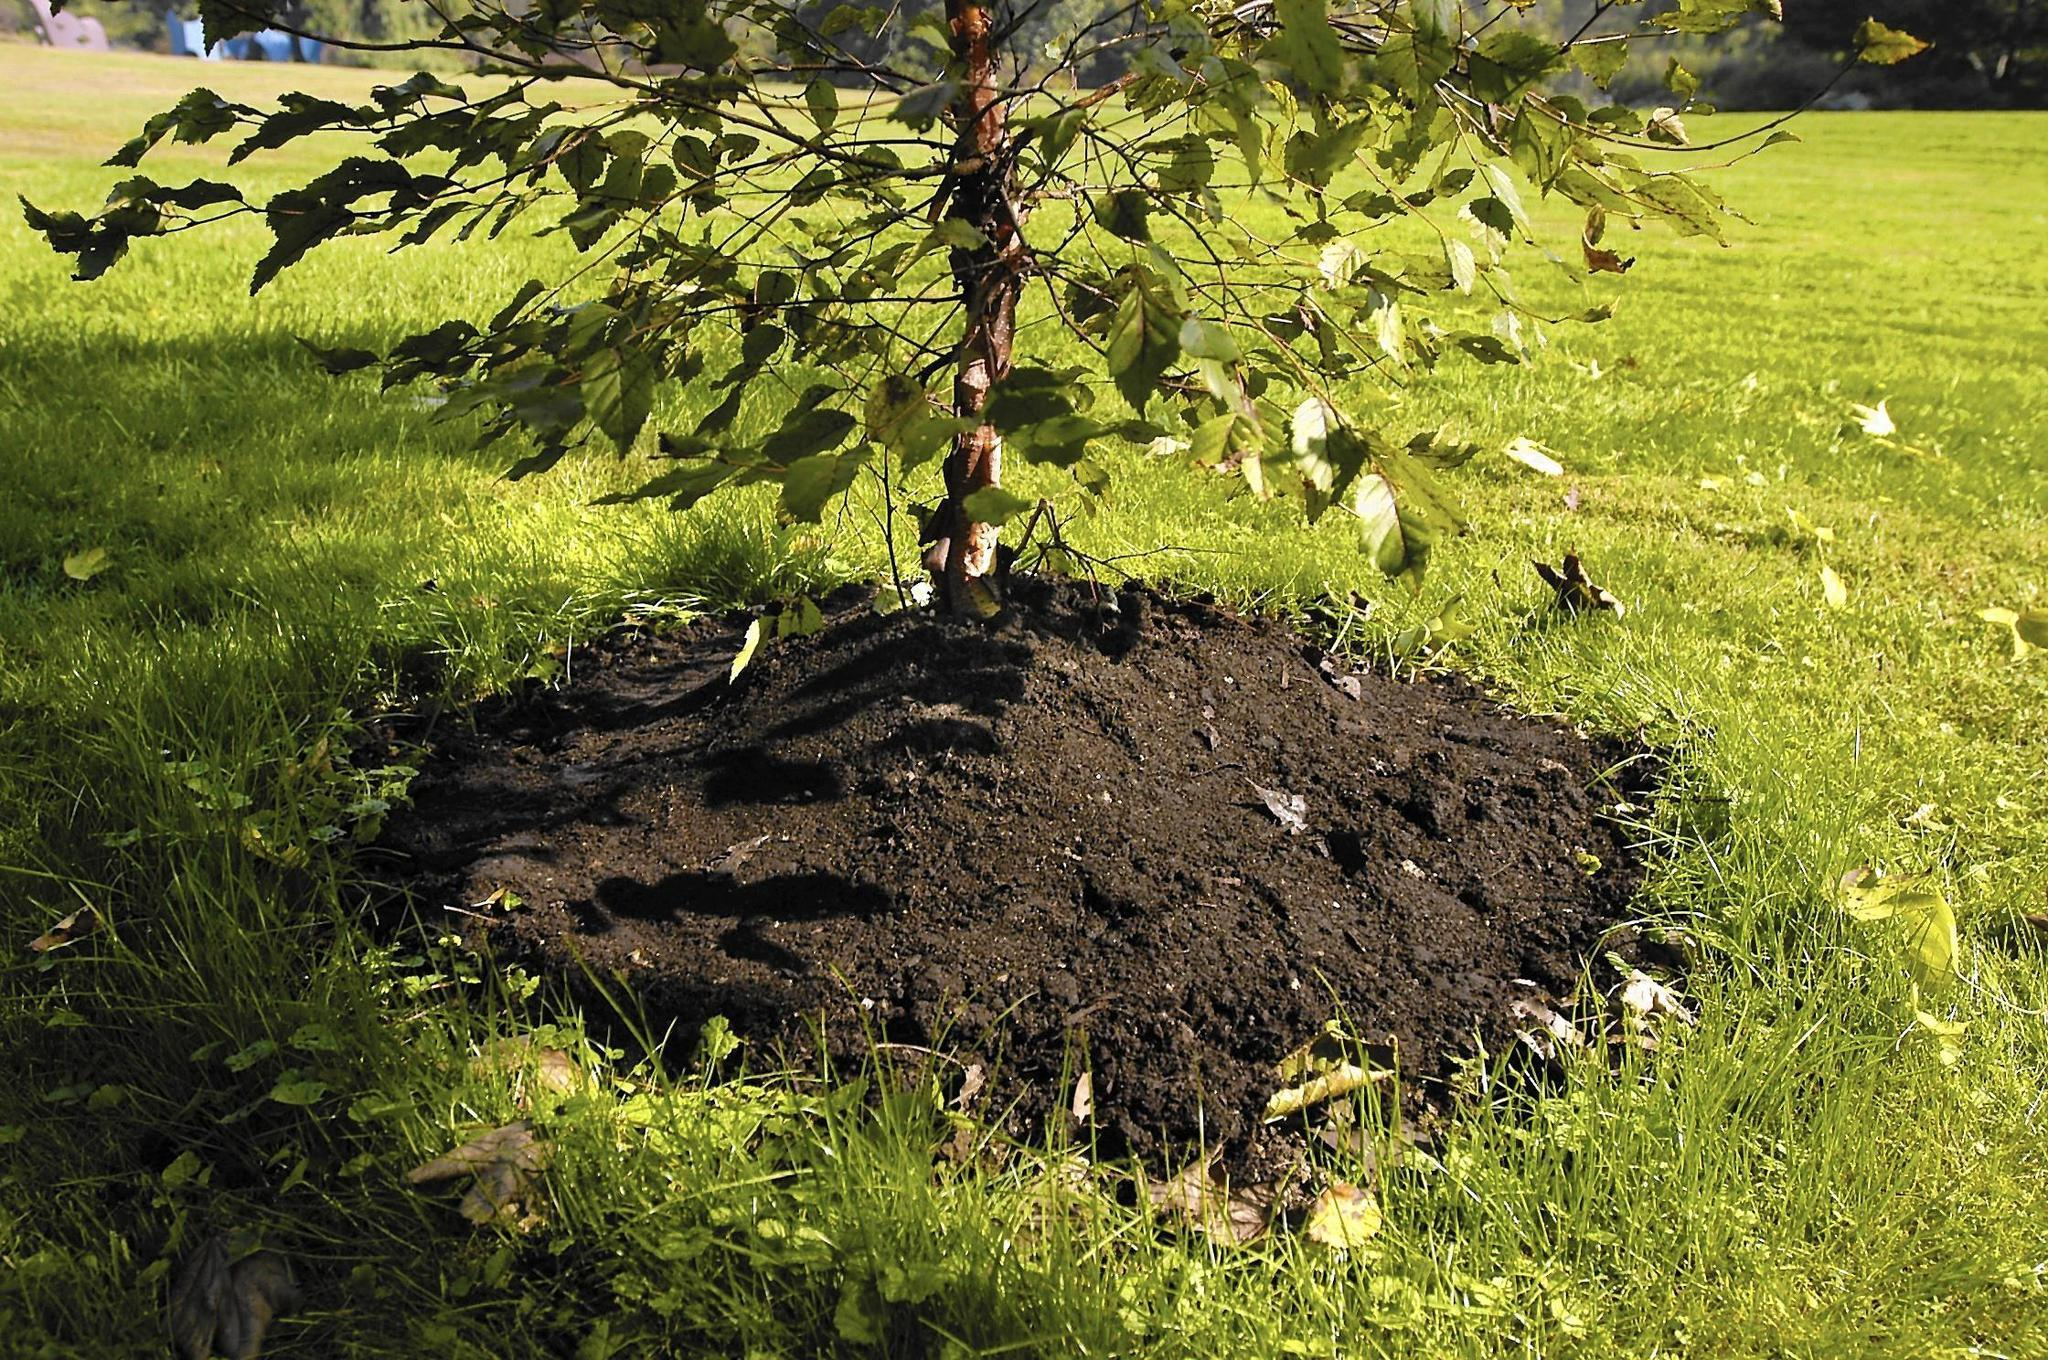dirt: (393, 609, 1658, 1134)
grass: (17, 301, 400, 1358), (1657, 124, 2028, 1135), (413, 1146, 2046, 1352)
tree: (947, 244, 1027, 600)
